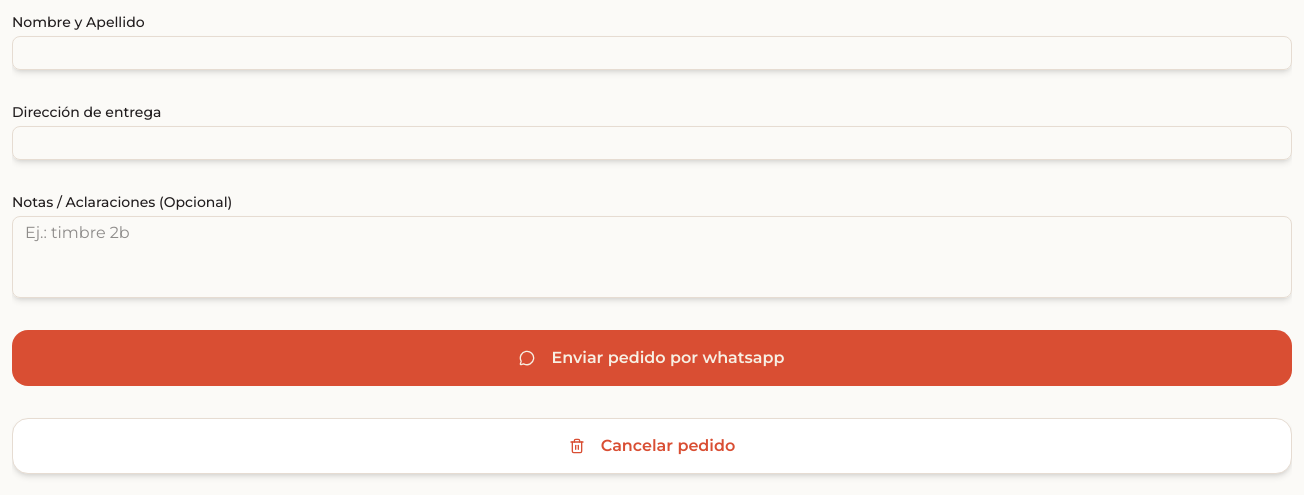
Scenario: FormOrder › debe mostrar mensajes de error cuando se intenta enviar el formulario vacío
This screenshot has width=1304, height=495.
Click the button "Enviar pedido por whatsapp": x=652, y=358 [12,330,1292,386]
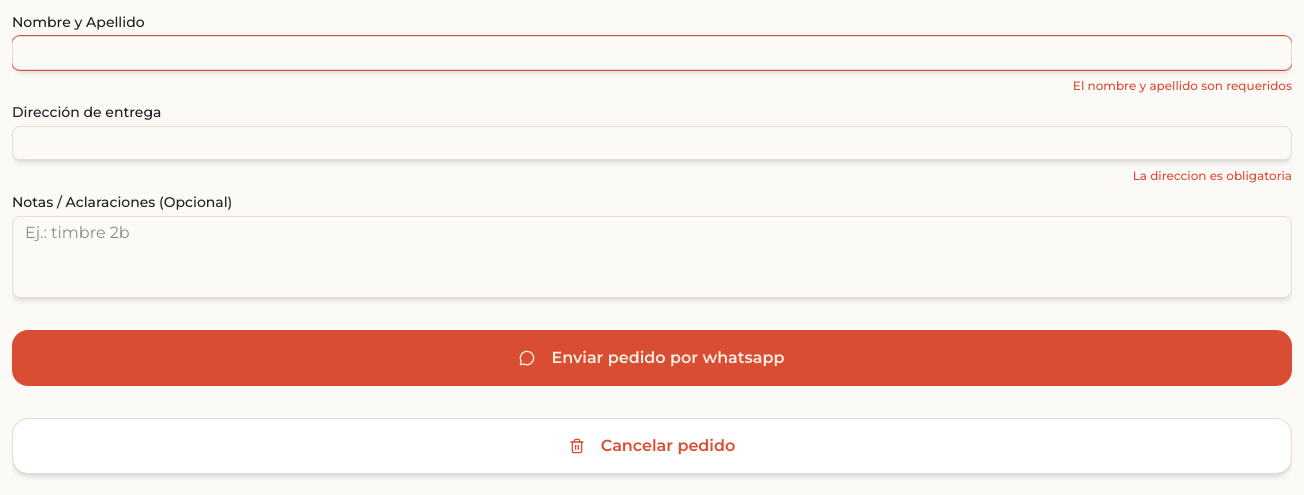
expect the text "El nombre y apellido son requeridos" is shown: met, box [1073,78,1292,94]
expect the text "La direccion es obligatoria" is shown: met, box [1133,168,1292,184]
